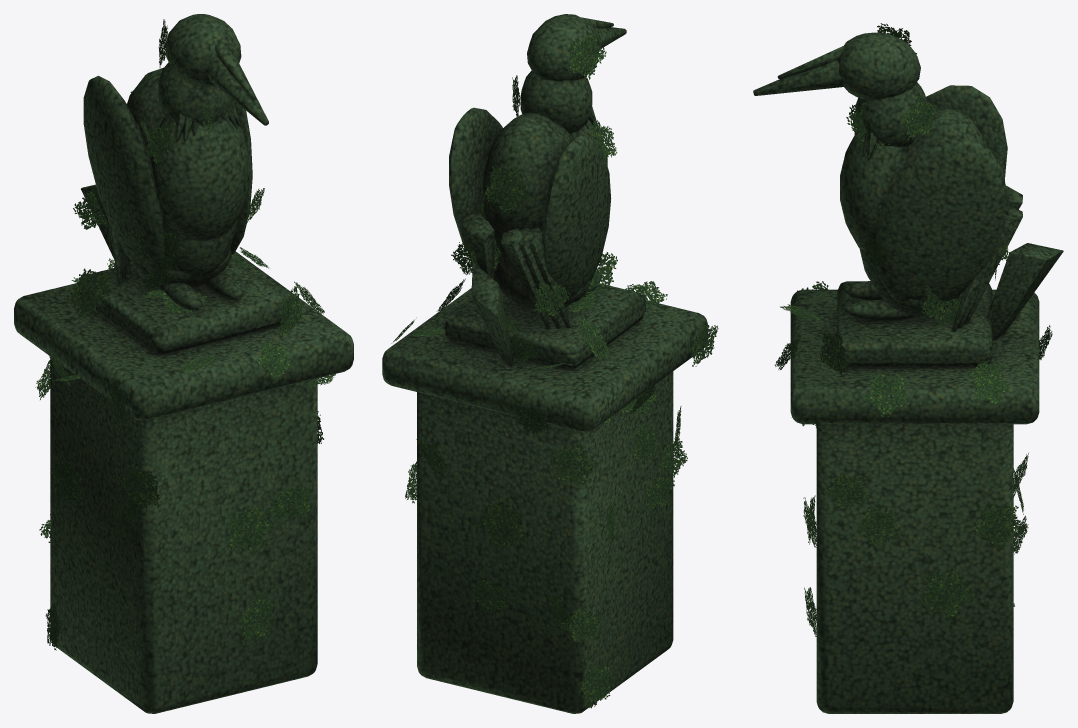
File: HedgeRaven.fbx
3 views of the same model, side by side, from view 1: azimuth 30°, elevation 25°; view 2: azimuth 150°, elevation 25°; view 3: azimuth 270°, elevation 25° (orthographic). The views are drawn at different scales.
Parts seen in each view (by area): view 1: HedgeRaven_Main, HedgeRaven_Leaves; view 2: HedgeRaven_Main, HedgeRaven_Leaves; view 3: HedgeRaven_Main, HedgeRaven_Leaves.
Boxes of the visible parts, <box> form: HedgeRaven_Main: <box>14,14,353,713</box>; HedgeRaven_Leaves: <box>35,19,335,650</box>; HedgeRaven_Main: <box>382,14,708,713</box>; HedgeRaven_Leaves: <box>391,32,718,708</box>; HedgeRaven_Main: <box>753,32,1063,713</box>; HedgeRaven_Leaves: <box>775,23,1052,636</box>.
Bounding box in the file's own units: 274 × 689 × 299.
